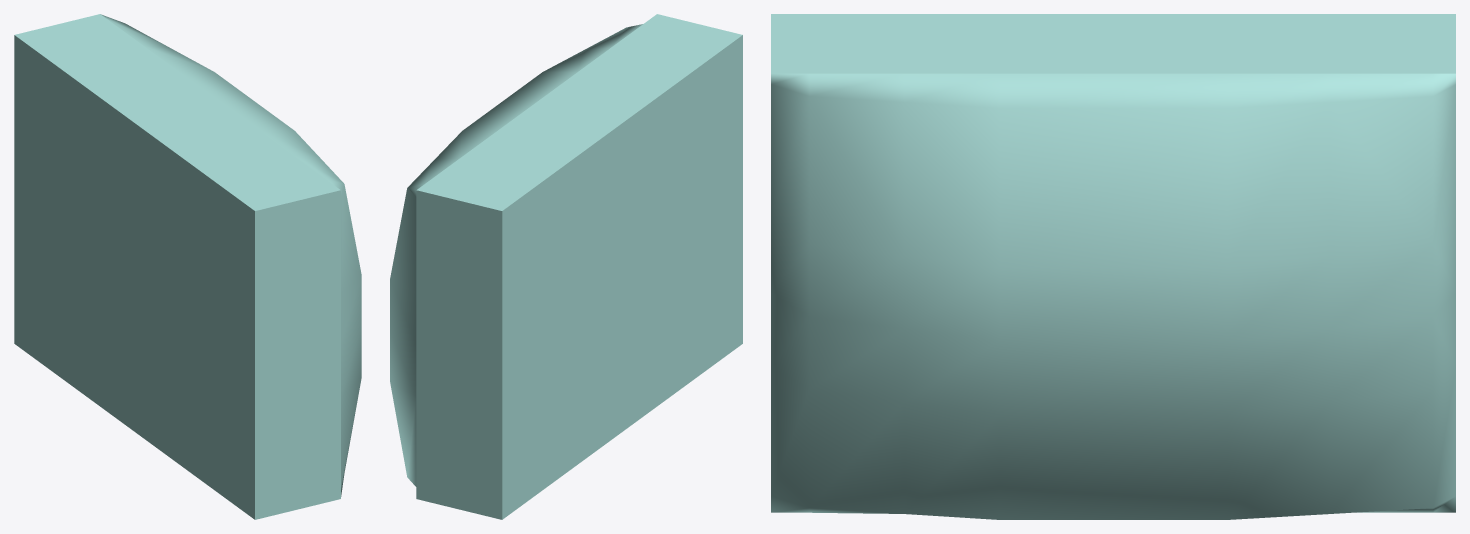
Rendered from TV_SCREEN 1.fbx.
The picture shows the model from 3 angles, left to right: view 1: azimuth 30°, elevation 25°; view 2: azimuth 150°, elevation 25°; view 3: azimuth 270°, elevation 25°; orthographic projection. The views are drawn at different scales.
Parts seen in each view (by area): view 1: polySurface14; view 2: polySurface14; view 3: polySurface14.
Boxes of the visible parts, x1,y1,x2,y2 form: polySurface14: [14, 14, 361, 519]; polySurface14: [390, 14, 742, 519]; polySurface14: [771, 14, 1455, 519].
Size of the model in its own units: 0.3974 by 0.7592 by 1.07.
